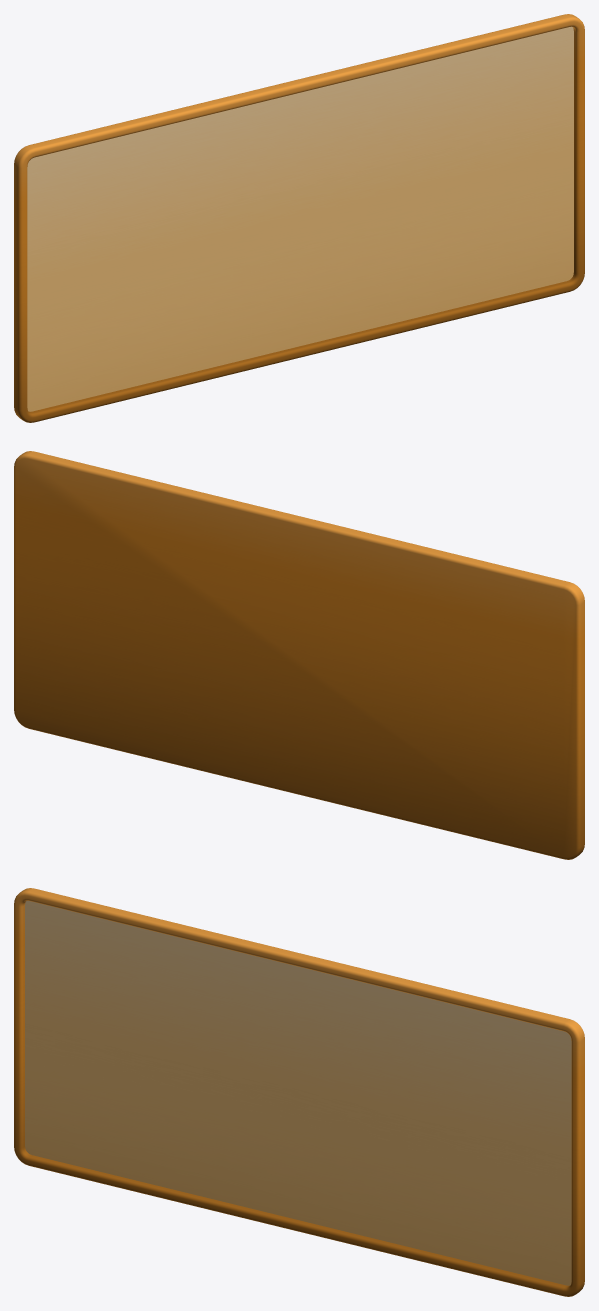
Rendered from ticketboard.fbx.
The picture shows the model from 3 angles, top to bottom: view 1: azimuth 30°, elevation 25°; view 2: azimuth 150°, elevation 25°; view 3: azimuth 330°, elevation 25°; orthographic projection.
Parts seen in each view (by area): view 1: Cube.001; view 2: Cube.001; view 3: Cube.001.
Part boxes in pixels (x1,y1,x2,y2): Cube.001: (14,14,584,422); Cube.001: (14,451,584,859); Cube.001: (14,888,584,1296).
Size of the model in its own units: 186 by 86.1 by 4.1.
Materials: 1 (1 with a texture image).
